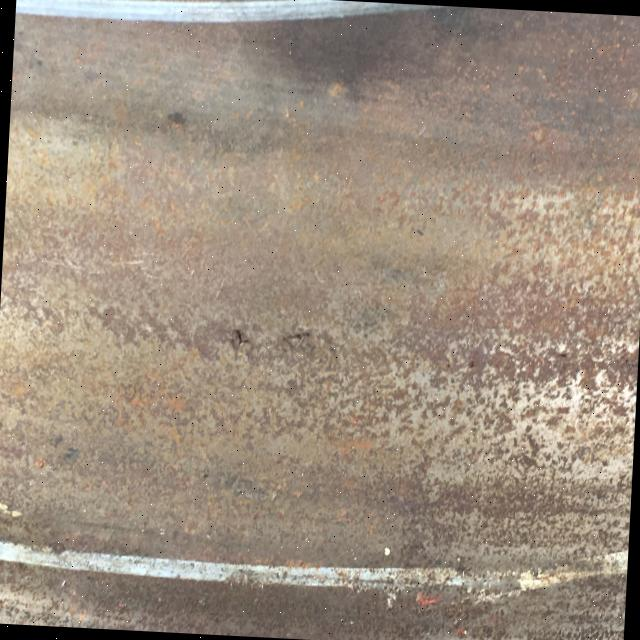Blue hole: (283, 330, 314, 353), (231, 330, 251, 353)
